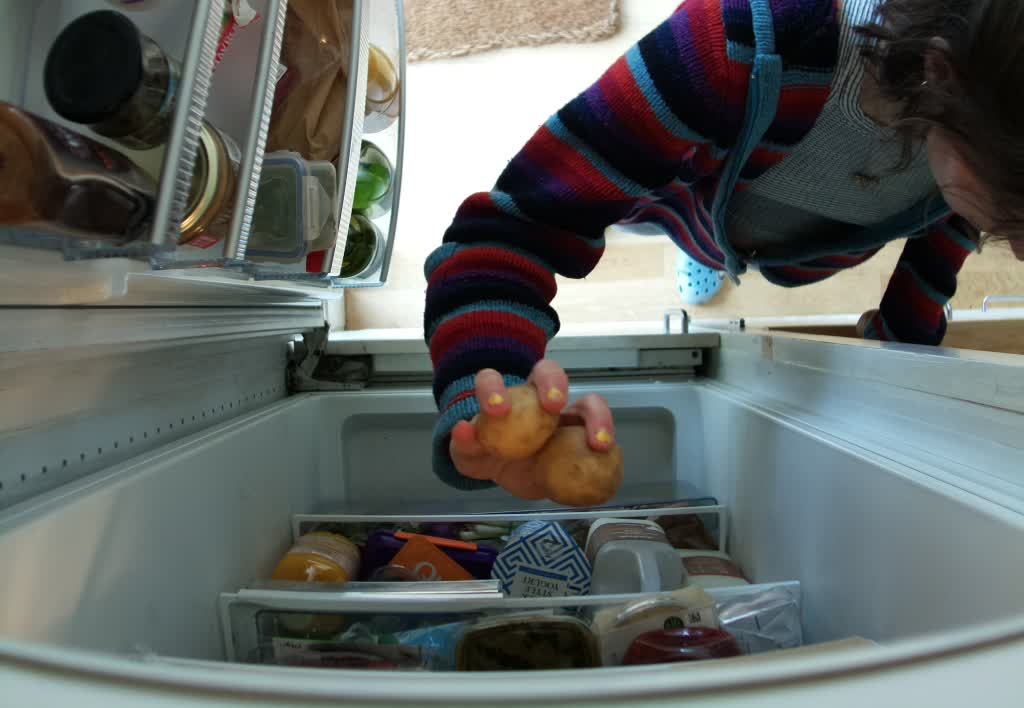potatoes: (482, 384, 617, 510)
